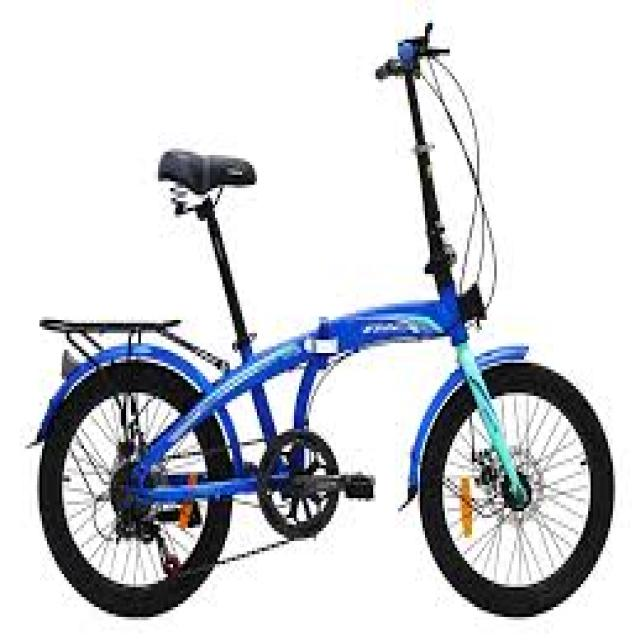bicycle: (42, 25, 603, 615)
